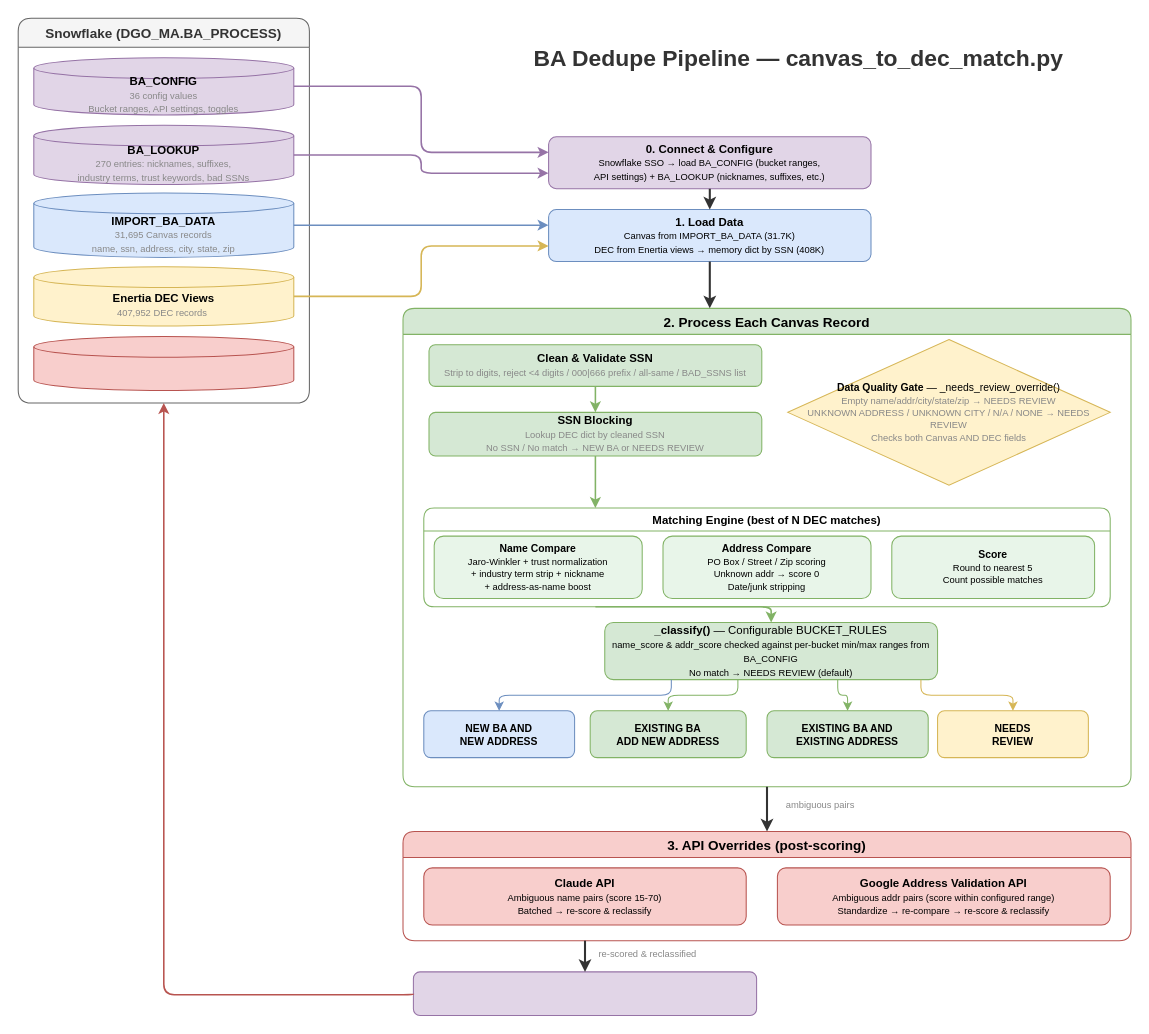
The diagram is 1149 pixels wide and 1034 high, and some of its shapes have lost their labels. The centre of each missing label's shape, as x and y in pixels:
4. Write Results → Snowflake IMPORT_MERGE_MATCHES (DROP + recreate): point 584,993
IMPORT_MERGE_MATCHES 31,695 result rows (output): point 163,363
